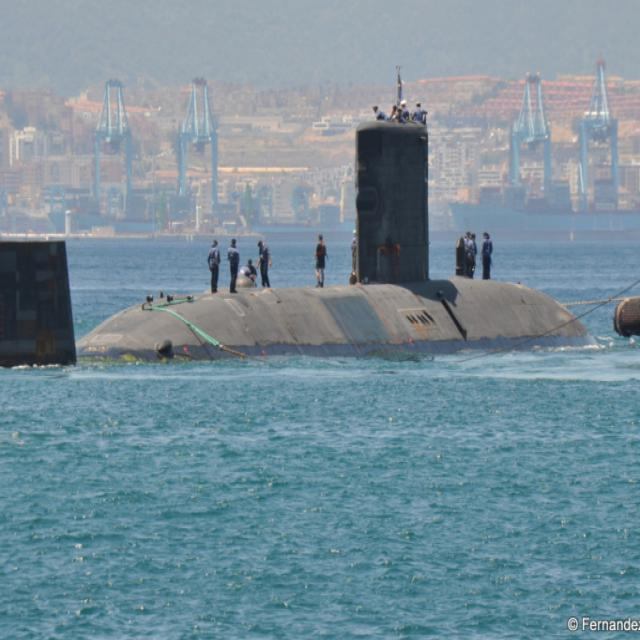submarine: (1, 118, 589, 364)
